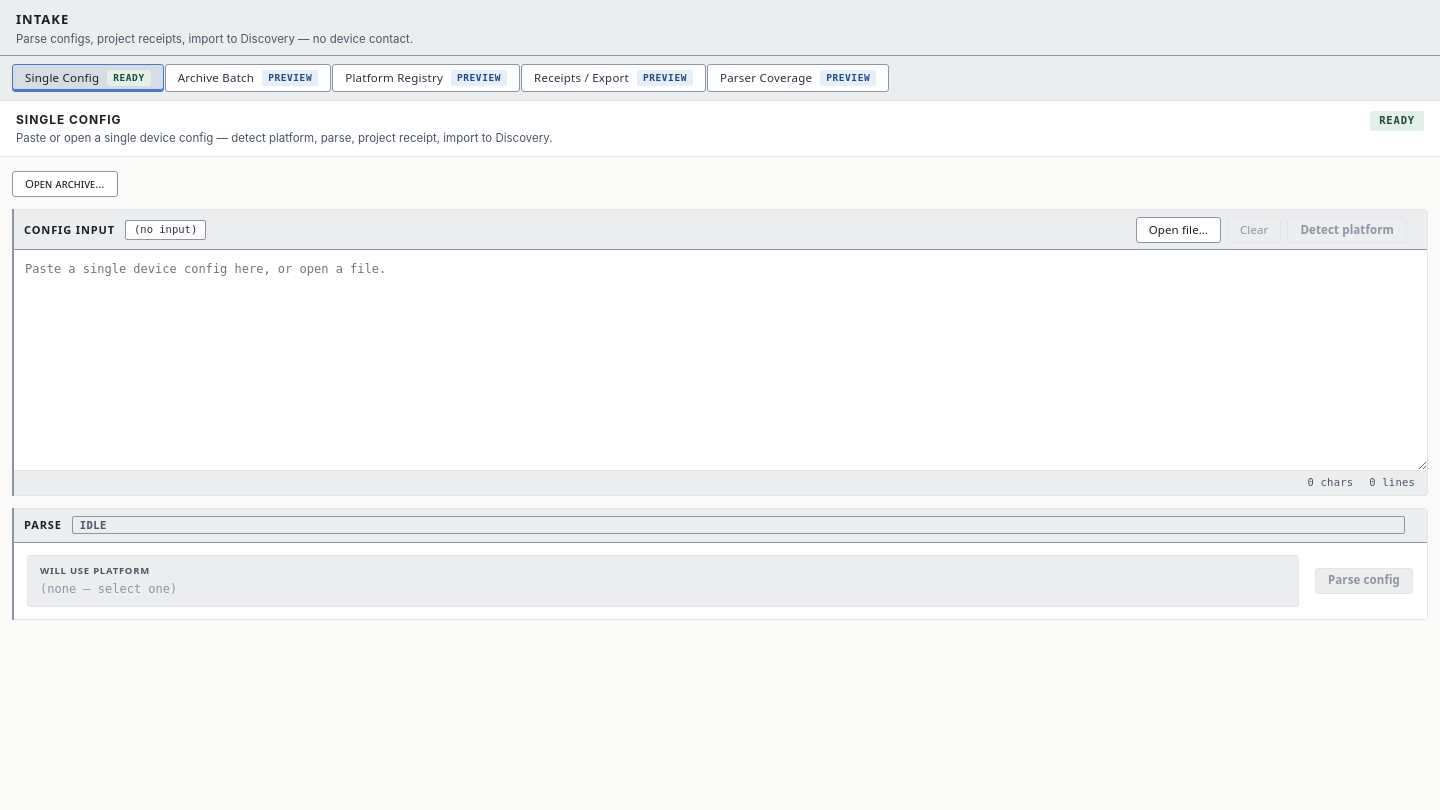
Scenario: IntakeMode — workbench (V1BN) › switching to Platform Registry shows deferred state
Click the tab with test id "mwb-tool-platform_registry" at (426, 78), box [332,64,520,92]
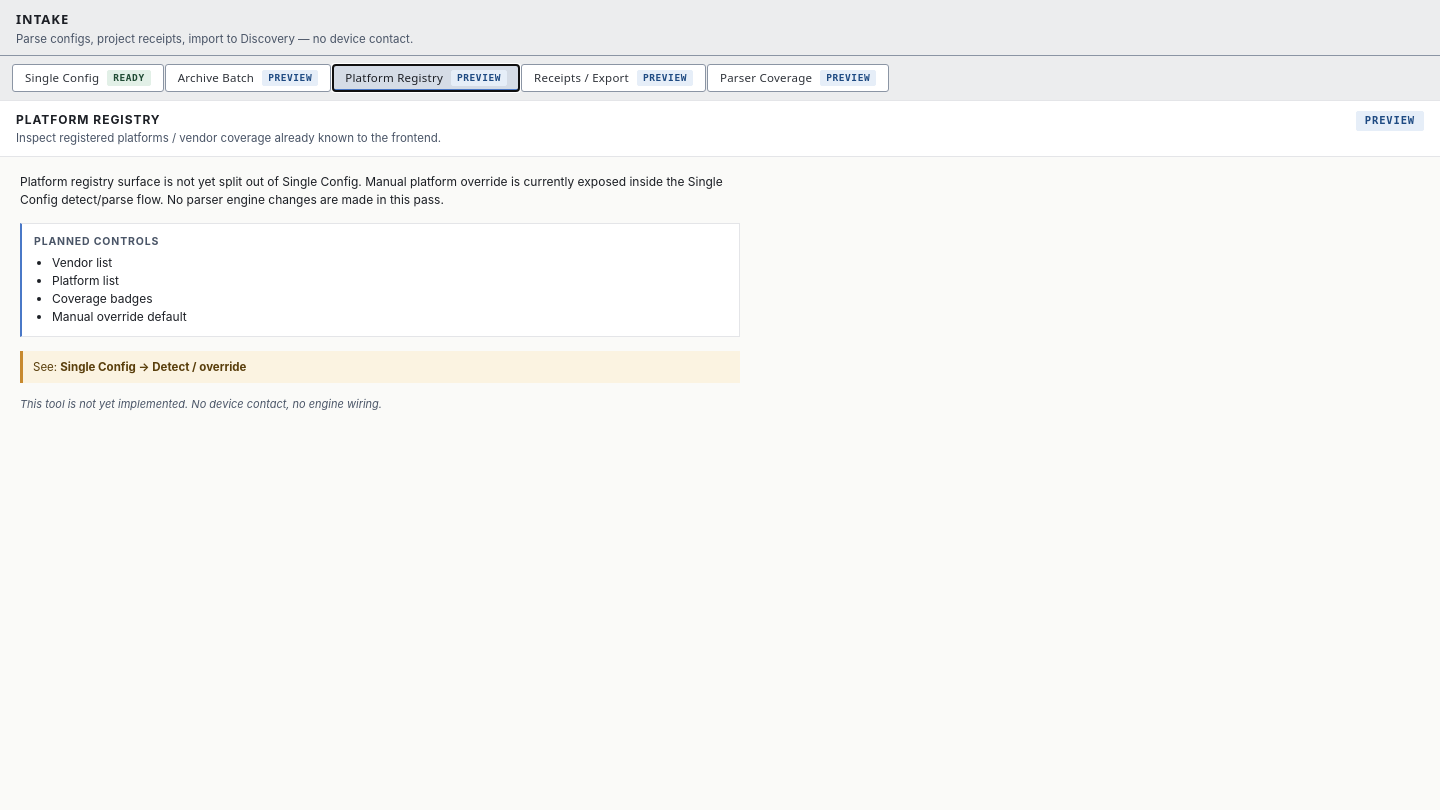
expect the element with test id "mwb-deferred-platform_registry" is shown: met, box [0,157,760,429]
